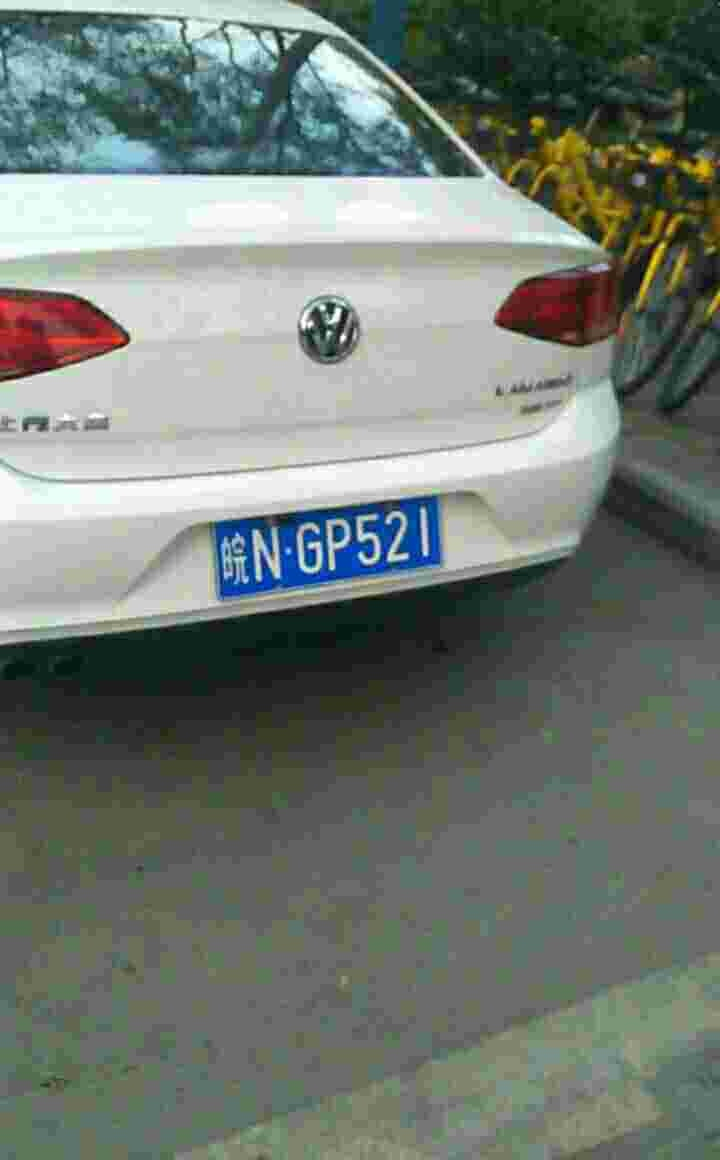license_plate: (214, 497, 454, 607)
